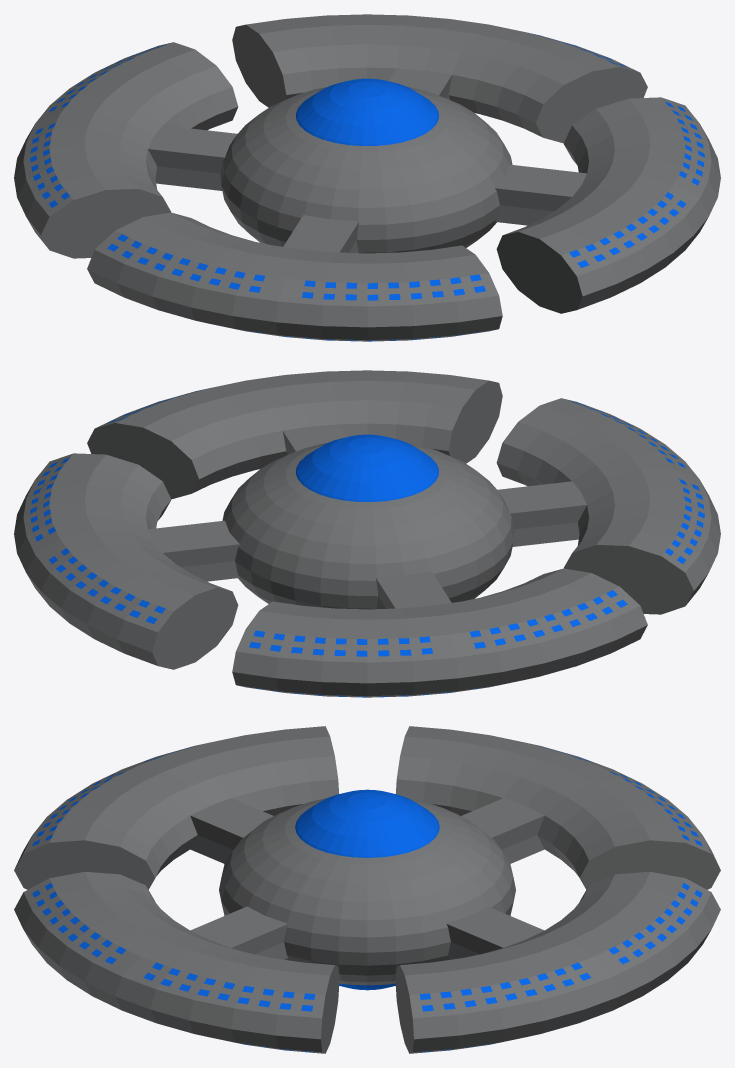
Rendered from Basic Station.glb.
3 renders of one model, top to bottom at view 1: azimuth 30°, elevation 25°; view 2: azimuth 150°, elevation 25°; view 3: azimuth 270°, elevation 25°, orthographic.
Parts seen in each view (by area): view 1: Sphere.001; view 2: Sphere.001; view 3: Sphere.001.
Part boxes in pixels (bbox=[...]): Sphere.001: bbox=[14, 14, 720, 341]; Sphere.001: bbox=[14, 370, 720, 697]; Sphere.001: bbox=[14, 726, 720, 1053].
Bounding box in the file's own units: 8.32 × 2.36 × 8.32.
